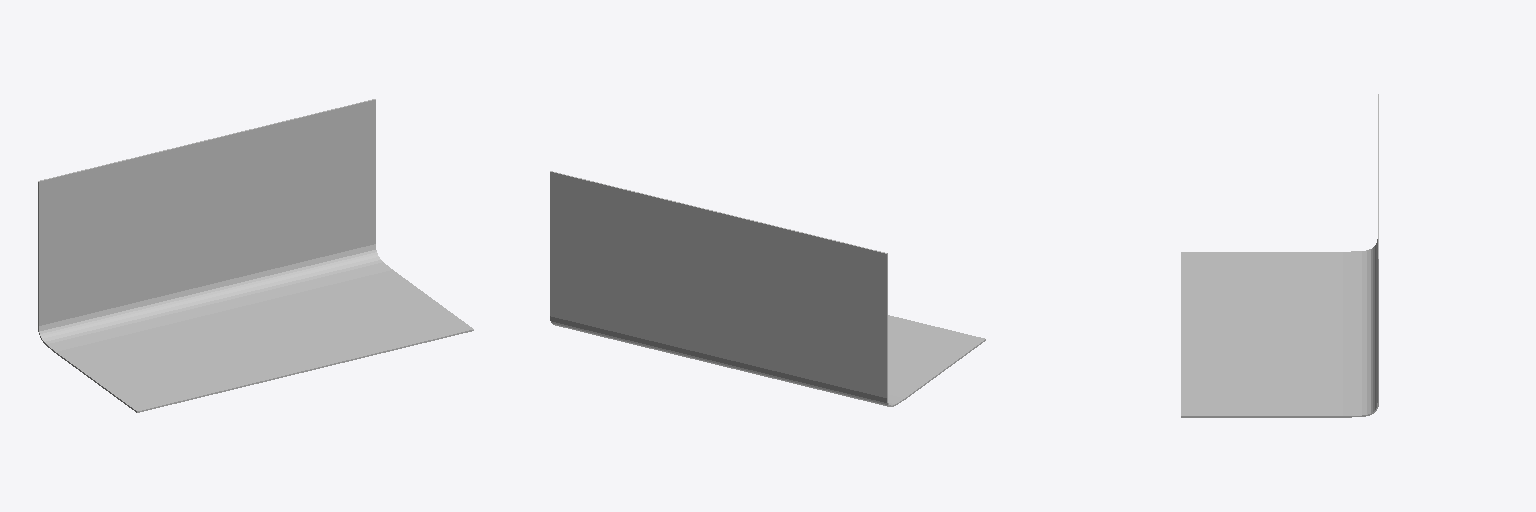
The model's file is background2.obj.
3 views of the same model, side by side, from view 1: azimuth 30°, elevation 25°; view 2: azimuth 150°, elevation 25°; view 3: azimuth 270°, elevation 25° (orthographic).
Visible parts, largest first — view 1: pasted__pPlane1 group; view 2: pasted__pPlane1 group; view 3: pasted__pPlane1 group.
Boxes of the visible parts, <box> form: pasted__pPlane1 group: <box>38,99,473,412</box>; pasted__pPlane1 group: <box>550,171,985,406</box>; pasted__pPlane1 group: <box>1181,94,1378,417</box>.
Bounding box in the file's own units: 161 × 72.73 × 82.21.